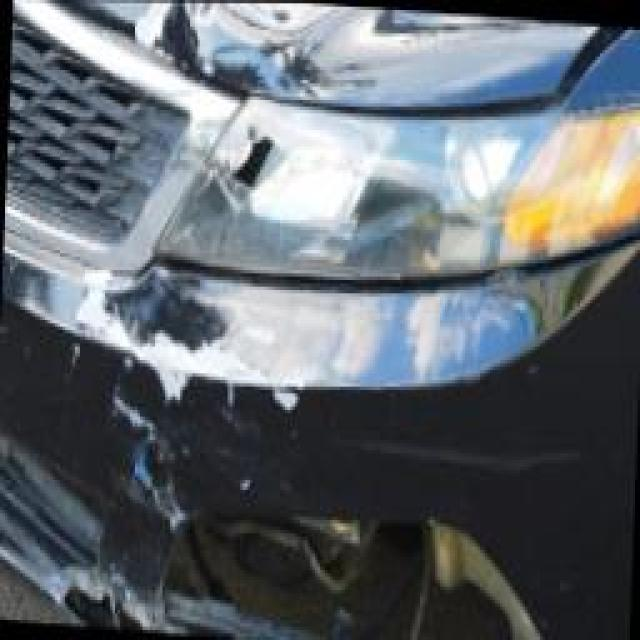Bonnet: (78, 0, 368, 92)
Bumper: (35, 250, 598, 640)
Light: (180, 97, 492, 286)
